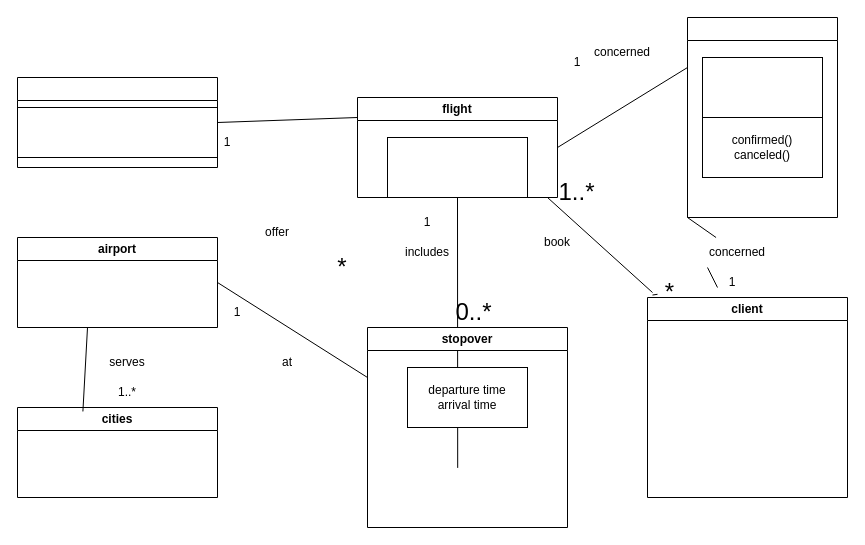
The diagram is 865 pixels wide and 545 high, and some of its shapes have lost their labels. Each missing label, with the box of its shape:
Airlines: (16, 76, 218, 168)
departure airport arrival airport departure date and time arrival date and time: (386, 136, 528, 198)
reservation: (686, 16, 838, 218)
